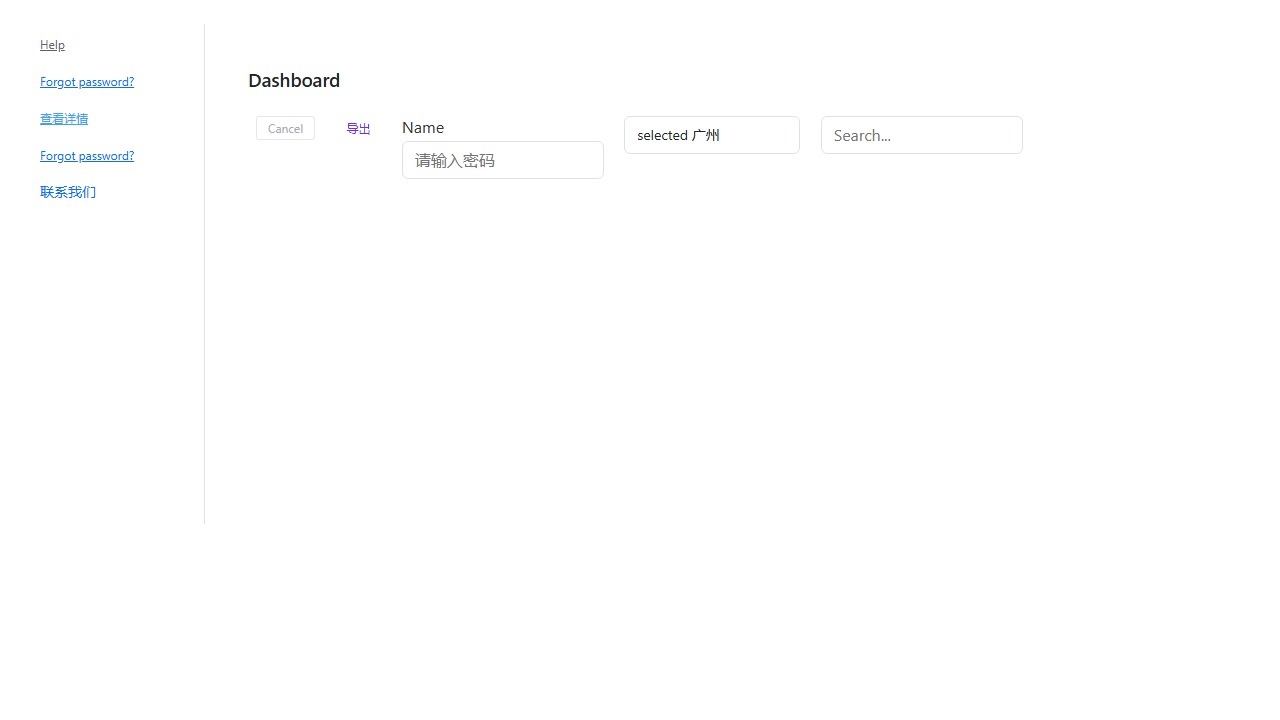button: (256, 116, 315, 140), (335, 117, 381, 139)
input: (402, 141, 604, 179), (821, 116, 1023, 154)
link: (40, 73, 134, 89), (40, 147, 134, 163), (40, 182, 96, 201), (40, 110, 88, 126), (40, 36, 65, 52)
select: (624, 116, 800, 154)
